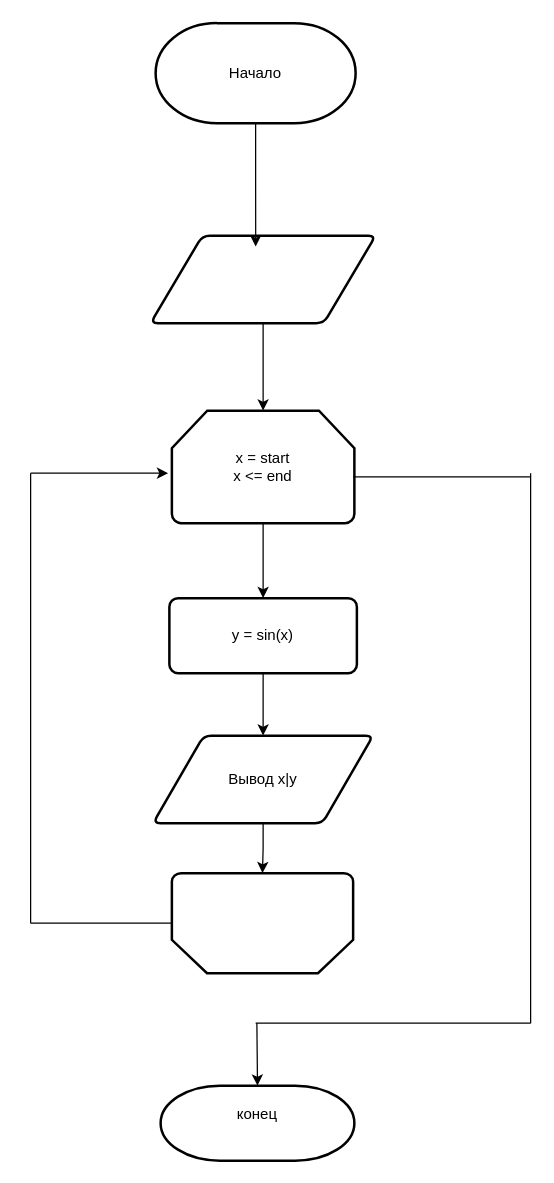
The diagram is 554 pixels wide and 1183 high, and some of its shapes have lost their labels. The centre of each missing label's shape, as x and y in pixels:
"x += step" belongs at pixel 262 922.
"Ввод start, end , step" belongs at pixel 262 279.
